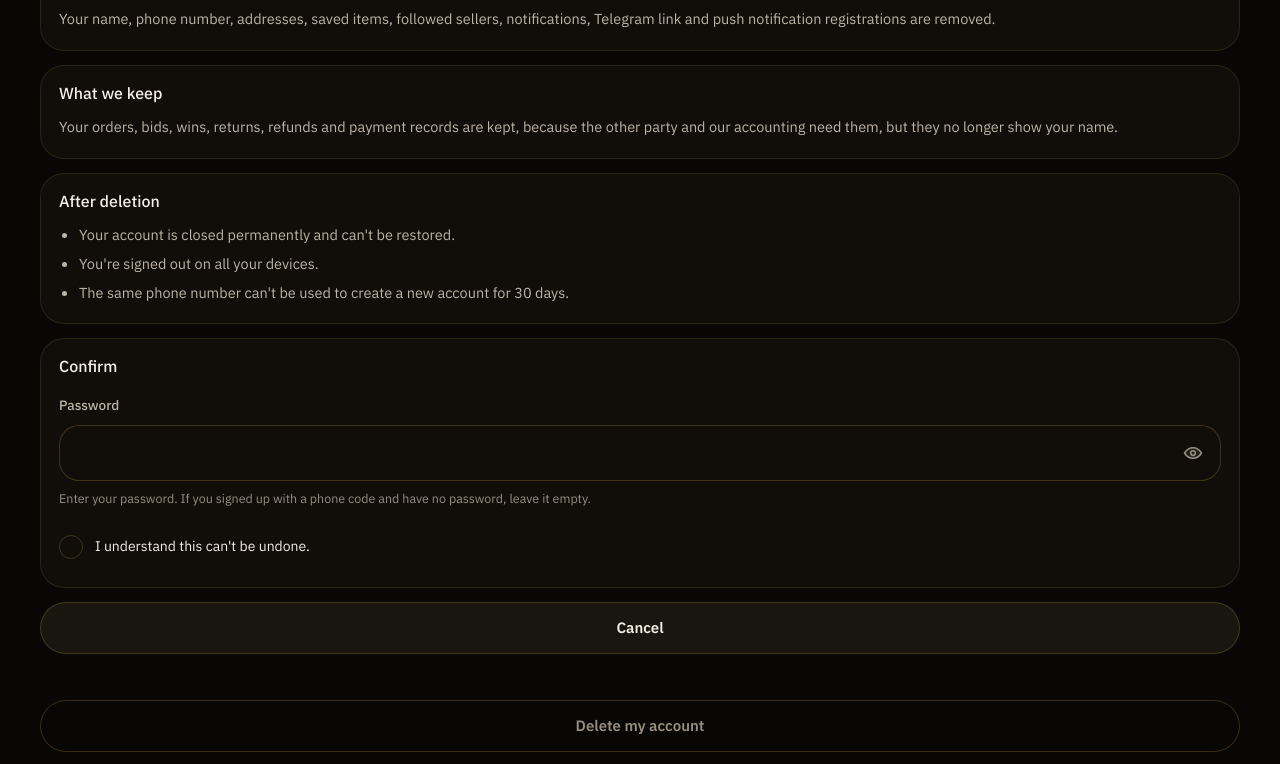
Delete account › shows a retry-later message when rate limited
(page scrolled)
Expected: the button "Delete my account" is shown, [40, 700, 1240, 752]
Type "secret-pass" into the password field labelled "Password" at (640, 453), box [59, 425, 1221, 481]
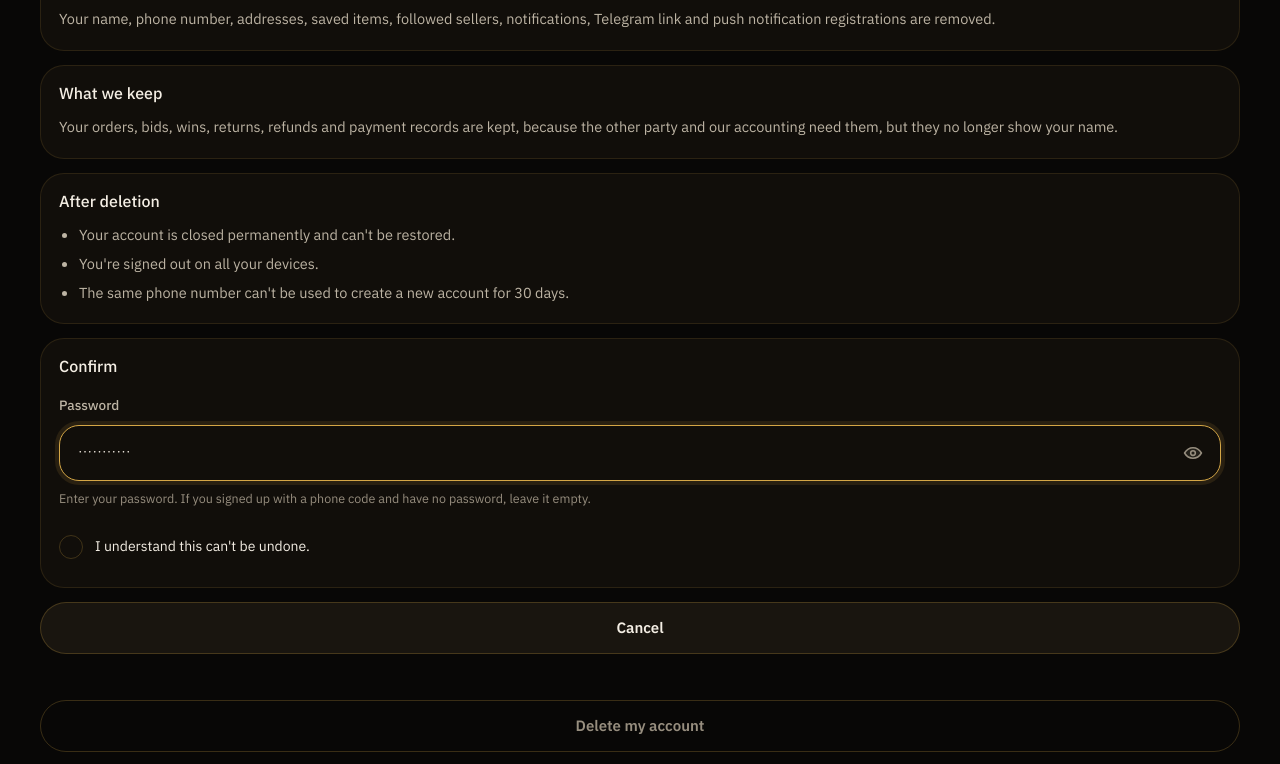
Click the checkbox labelled "I understand this can't be undone." at (184, 547), box [59, 535, 310, 559]
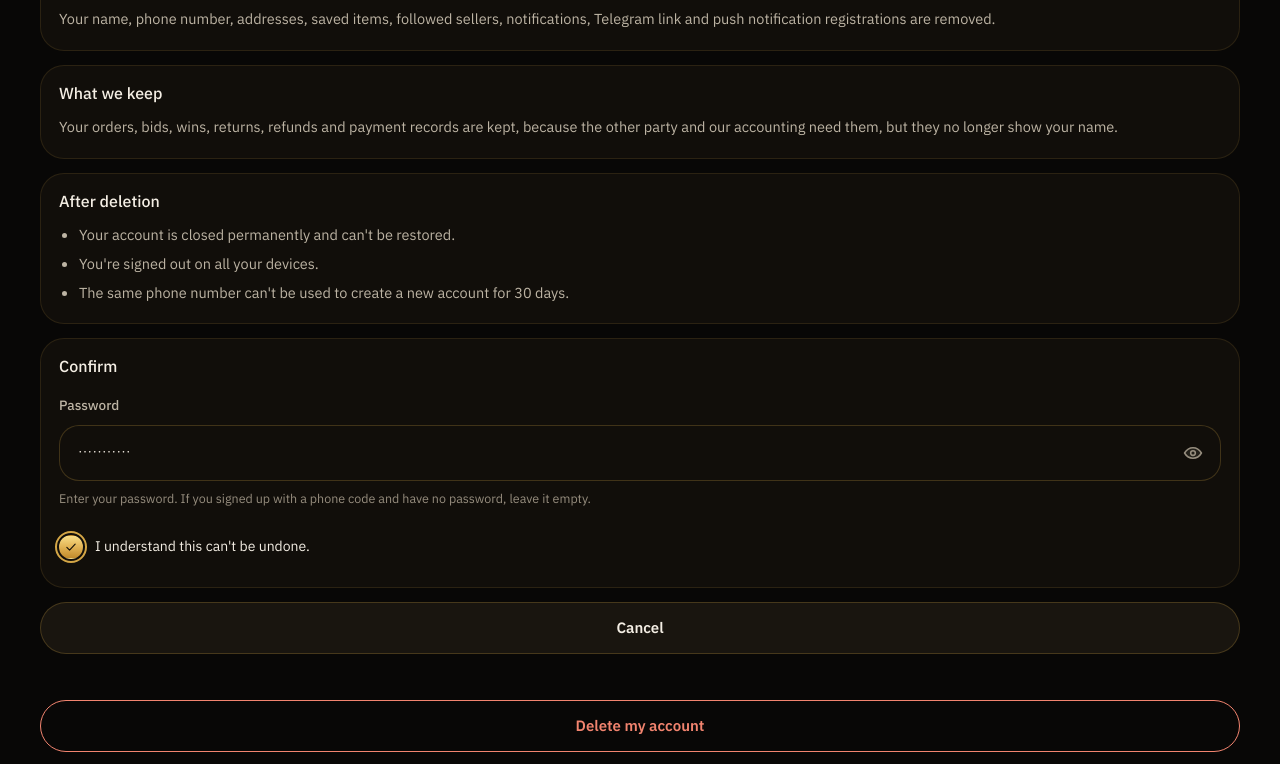
Click the button "Delete my account" at (640, 726), box [40, 700, 1240, 752]
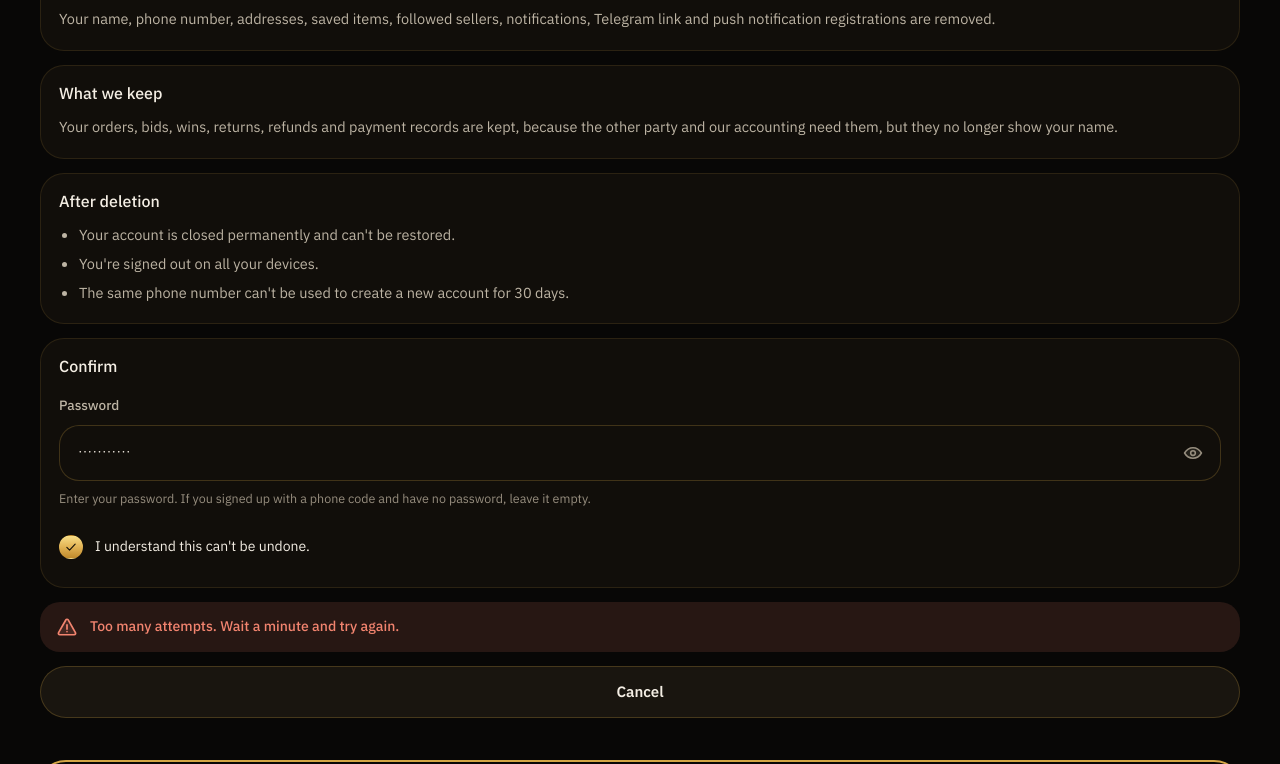
Expected: the text "Too many attempts. Wait a minute and try again." is shown, [90, 616, 399, 637]
